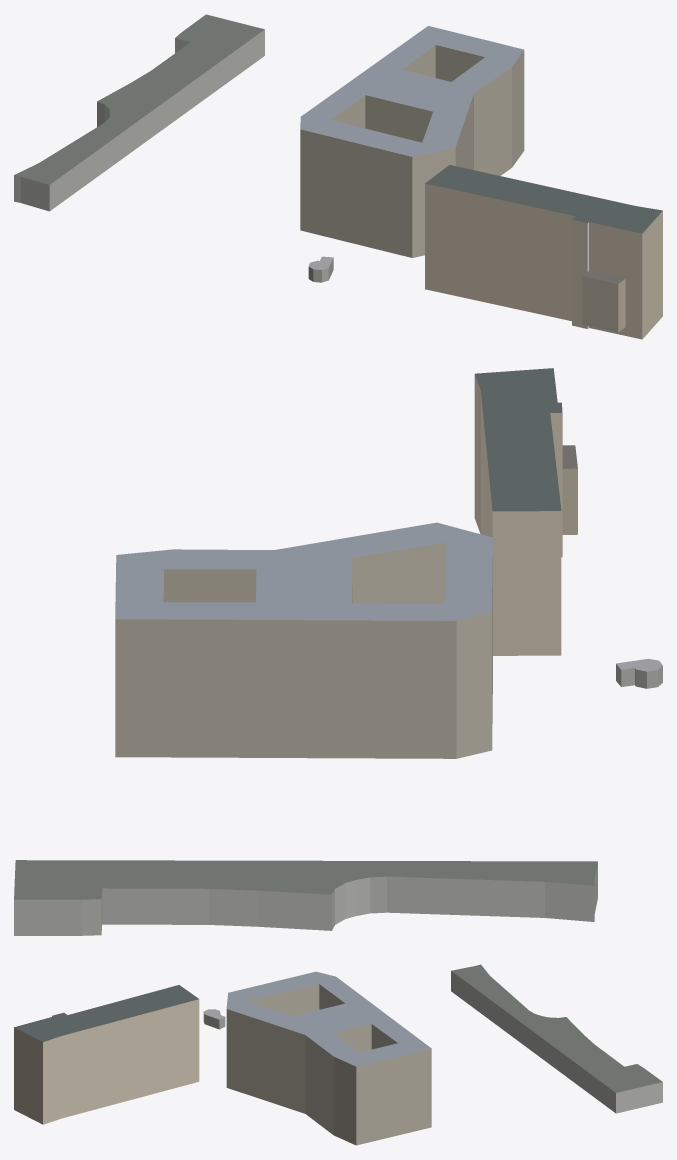
3 renders of one model, top to bottom at view 1: azimuth 30°, elevation 25°; view 2: azimuth 150°, elevation 25°; view 3: azimuth 270°, elevation 25°, orthographic. The views are drawn at different scales.
Parts seen in each view (by area): view 1: tuile; view 2: tuile; view 3: tuile.
Part boxes in pixels (x1,y1,x2,y2): tuile: [14, 14, 662, 339]; tuile: [14, 368, 662, 935]; tuile: [14, 964, 662, 1145].
Size of the model in its own units: 174 by 41.26 by 292.
